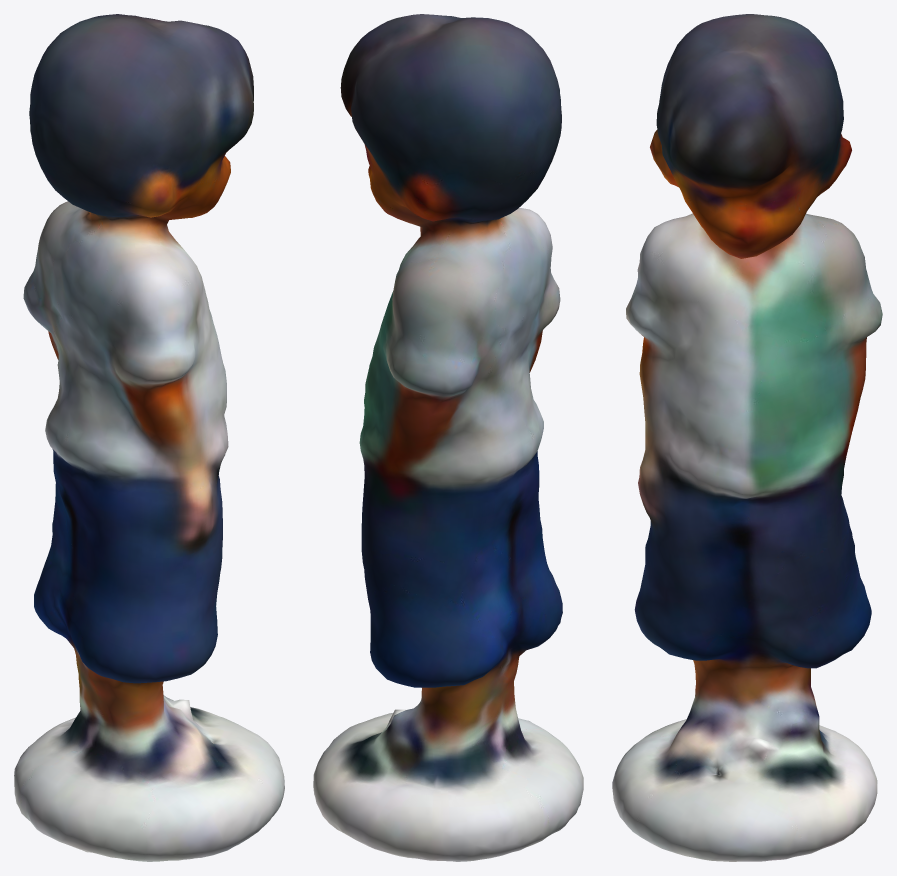
Rendered from kid2.glb.
3 renders of one model, left to right at view 1: azimuth 30°, elevation 25°; view 2: azimuth 150°, elevation 25°; view 3: azimuth 270°, elevation 25°, orthographic.
Visible parts, largest first — view 1: Mesh1; view 2: Mesh1; view 3: Mesh1.
Part boxes in pixels (<box>): Mesh1: <box>14,14,284,861</box>; Mesh1: <box>313,14,583,861</box>; Mesh1: <box>612,14,882,861</box>.
Size of the model in its own units: 0.358 by 1.2 by 0.3607.
1 material, 1 textured.
